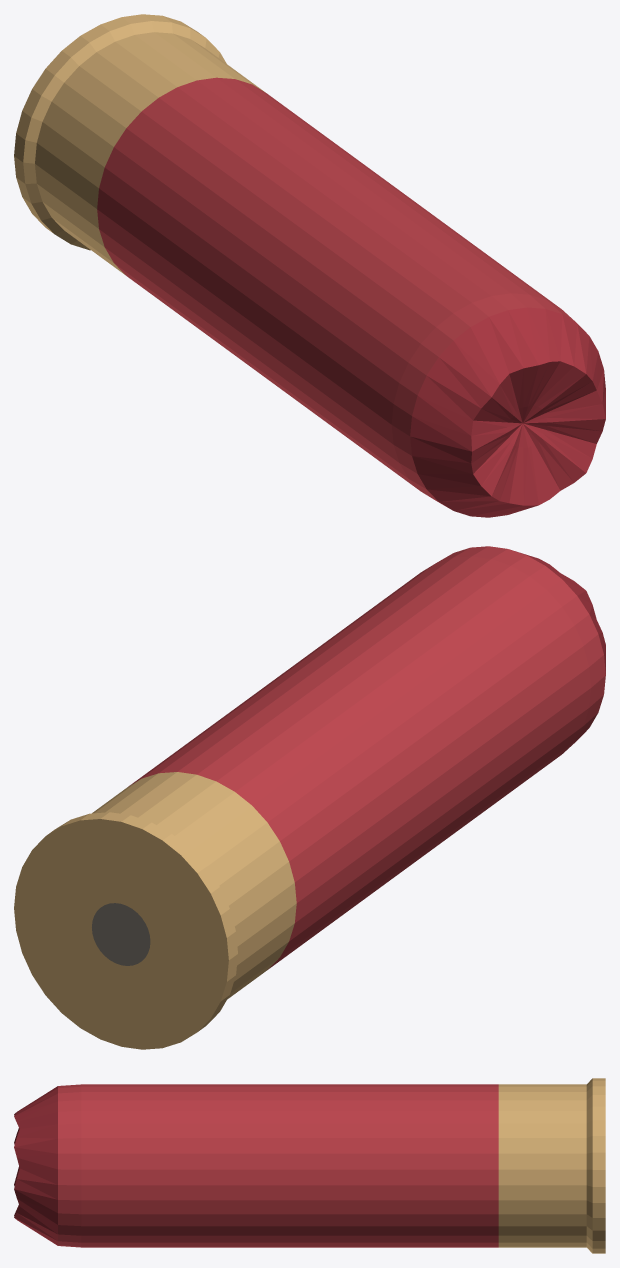
File: gnasher-round.glb
3 renders of one model, top to bottom at view 1: azimuth 30°, elevation 25°; view 2: azimuth 150°, elevation 25°; view 3: azimuth 270°, elevation 25°, orthographic. The views are drawn at different scales.
Parts seen in each view (by area): view 1: Gnasher complete round prototype; view 2: Gnasher complete round prototype; view 3: Gnasher complete round prototype.
Part boxes in pixels (<box>): Gnasher complete round prototype: <box>14,14,605,517</box>; Gnasher complete round prototype: <box>14,546,605,1049</box>; Gnasher complete round prototype: <box>14,1078,605,1253</box>.
Bounding box in the file's own units: 0.0337 × 0.0337 × 0.1135.
